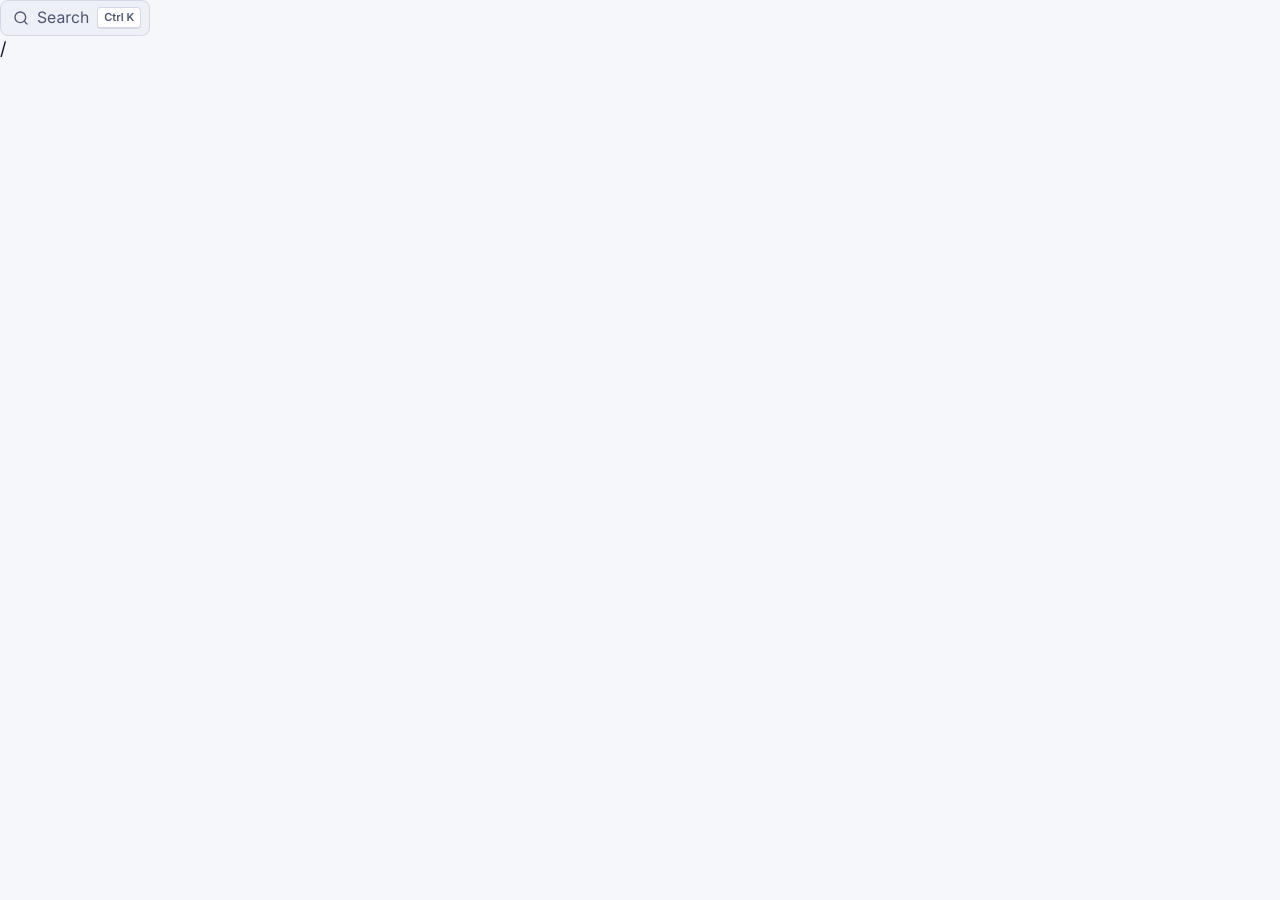
Scenario: command palette › says when nothing matches
Press k
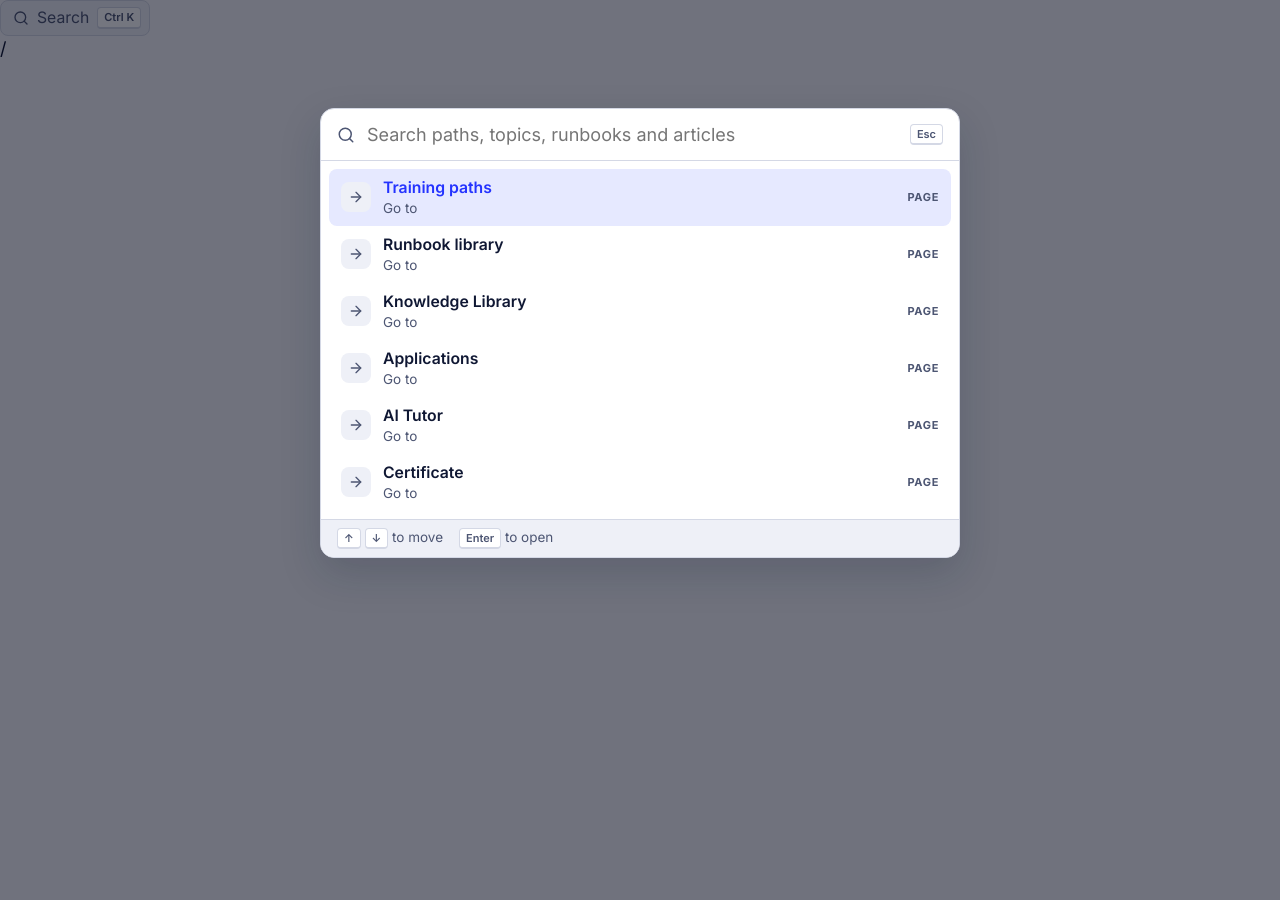
Type "zzqq" into the dropdown at coordinates (632, 134), box [367,121,898,148]
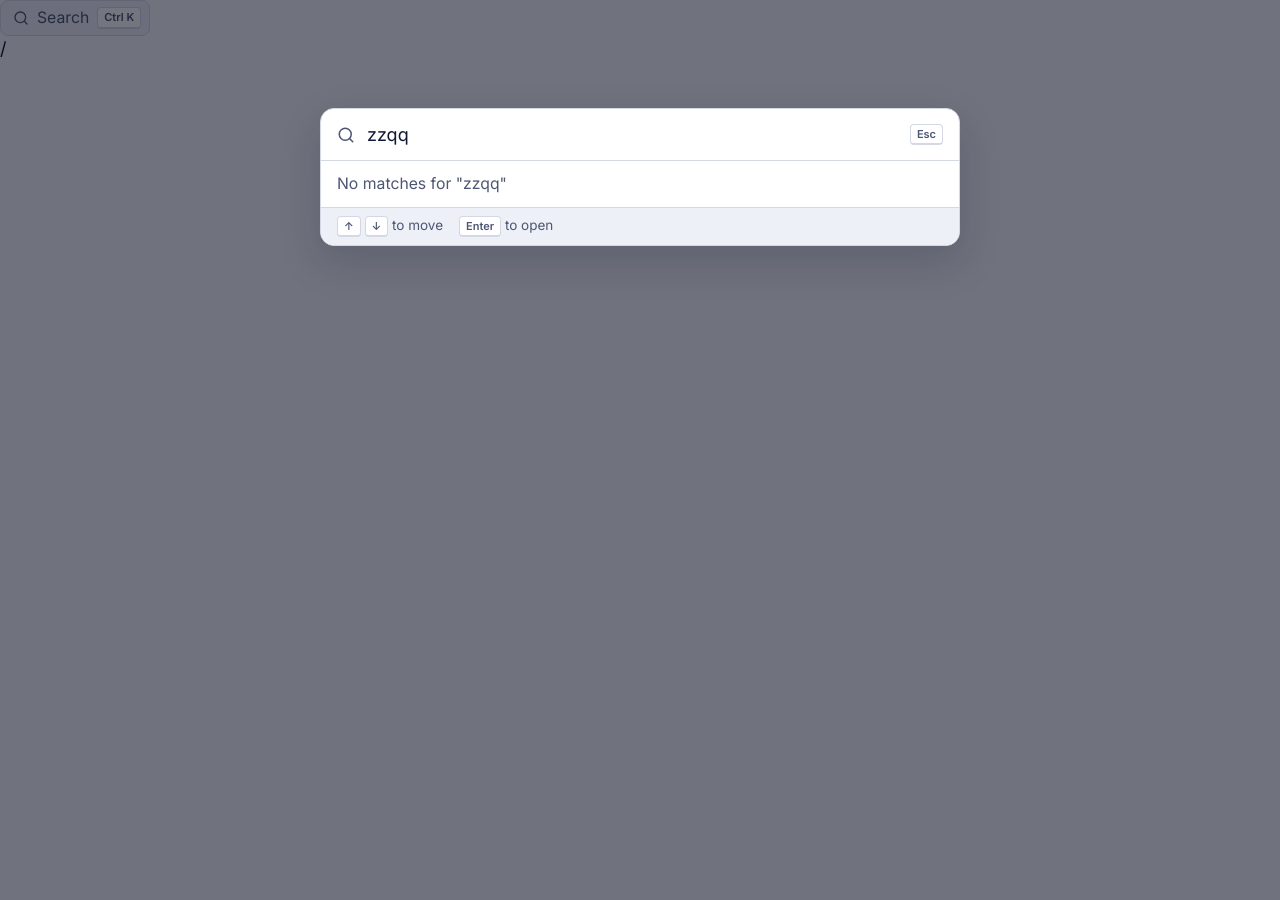
Expected: the text "No matches for \"zzqq\"" is shown, [337,174,507,193]
